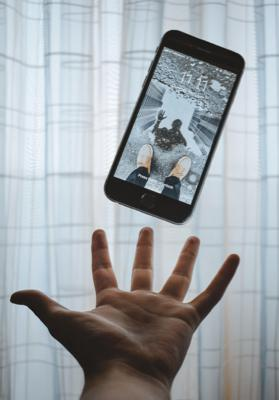cell-phone: (98, 26, 249, 232)
